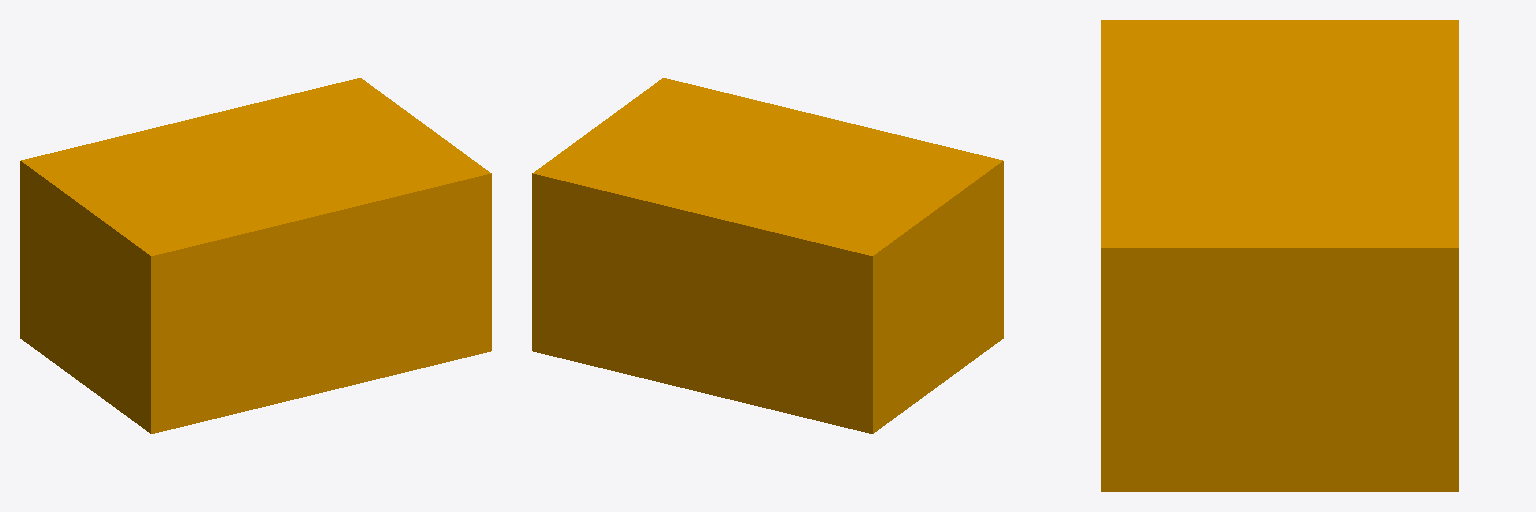
URDF robot description (object):
<?xml version="0.0"?>
	<robot name="object">
		<link name="object">
			<visual>
				<origin xyz="0 0 0"/>
				<geometry>
					<box size="0.6 0.4 0.3"/>
				</geometry>
			</visual>
			<inertial>
				<mass value="7.200"/>
			</inertial>
			<collision>
				<origin xyz="0 0 0"/>
				<geometry>
					<box size="0.6 0.4 0.3"/>
				</geometry>
			</collision>
		</link>

	</robot>

--- What the picture shows (computed from the rendered views, not written in the file) ---
3 views of the same robot in one strip: view 1: azimuth 30°, elevation 25°; view 2: azimuth 150°, elevation 25°; view 3: azimuth 270°, elevation 25° (orthographic).
Model object with 1 links and 0 joints (none), rooted at object, posed all joints at 0.
Links seen in each view (by area): view 1: object; view 2: object; view 3: object.
Boxes of the visible links, box(x1,y1,x2,y2) form: object: box(20, 78, 491, 433); object: box(532, 78, 1003, 433); object: box(1101, 20, 1458, 491).
Size in the robot's own frame: 0.6 by 0.4 by 0.3 metres.
Geometry: primitives only (box / cylinder / sphere), no mesh files.